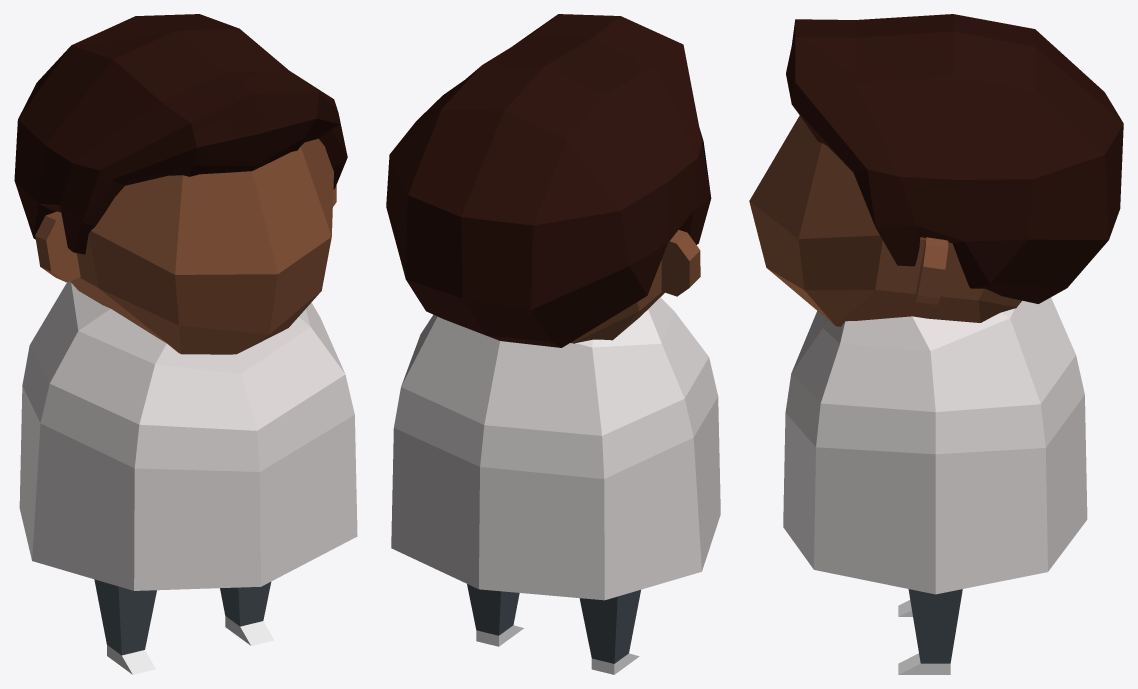
The model's file is laakari.glb.
The picture shows the model from 3 angles, left to right: view 1: azimuth 30°, elevation 25°; view 2: azimuth 150°, elevation 25°; view 3: azimuth 270°, elevation 25°; orthographic projection. The views are drawn at different scales.
Parts seen in each view (by area): view 1: Cube; view 2: Cube; view 3: Cube.
Part boxes in pixels (<box>): Cube: <box>14,14,357,674</box>; Cube: <box>386,14,720,674</box>; Cube: <box>749,14,1123,674</box>.
Size of the model in its own units: 1.11 by 2.1 by 1.17.
